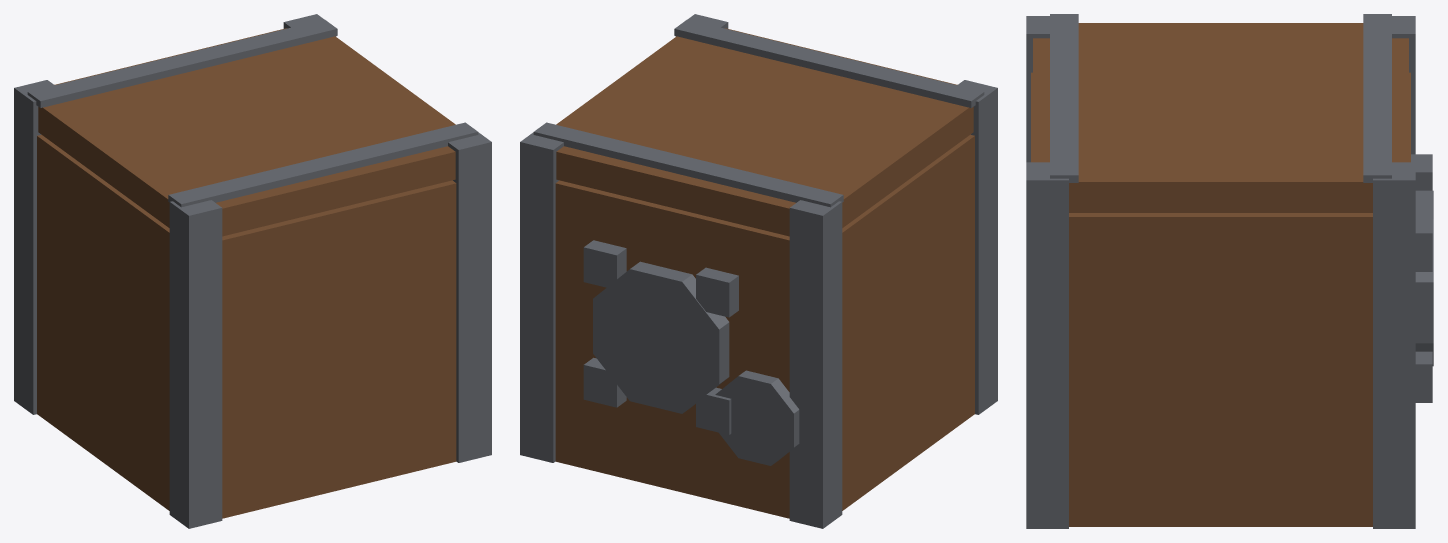
The model's file is SN_Gear_Crate.glb.
3 renders of one model, left to right at view 1: azimuth 30°, elevation 25°; view 2: azimuth 150°, elevation 25°; view 3: azimuth 270°, elevation 25°, orthographic. The views are drawn at different scales.
Parts seen in each view (by area): view 1: SN_Gear_Crate; view 2: SN_Gear_Crate; view 3: SN_Gear_Crate.
Part boxes in pixels (x1,y1,x2,y2): SN_Gear_Crate: [14, 14, 491, 528]; SN_Gear_Crate: [520, 14, 997, 528]; SN_Gear_Crate: [1026, 14, 1433, 528].
Bounding box in the file's own units: 0.82 × 0.818 × 0.858.
